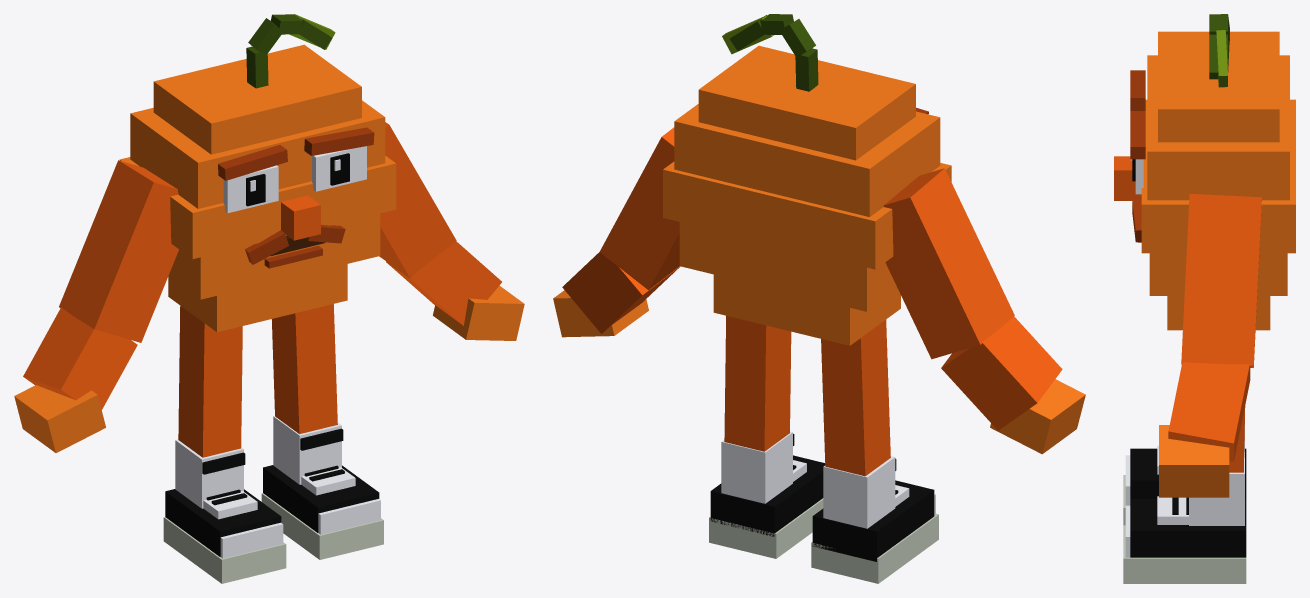
The model's file is OdinDinDinDun_Mini.glb.
3 views of the same model, side by side, from view 1: azimuth 30°, elevation 25°; view 2: azimuth 150°, elevation 25°; view 3: azimuth 270°, elevation 25° (orthographic). The views are drawn at different scales.
Visible parts, largest first — view 1: OdinDinDinDun_Mini; view 2: OdinDinDinDun_Mini; view 3: OdinDinDinDun_Mini.
Part boxes in pixels (left/top/right/bottom): OdinDinDinDun_Mini: left=14, top=14, right=524, bottom=583; OdinDinDinDun_Mini: left=553, top=14, right=1085, bottom=583; OdinDinDinDun_Mini: left=1114, top=14, right=1295, bottom=583.
Size of the model in its own units: 1.96 by 2 by 0.6142.
Materials: 1 (1 with a texture image).
